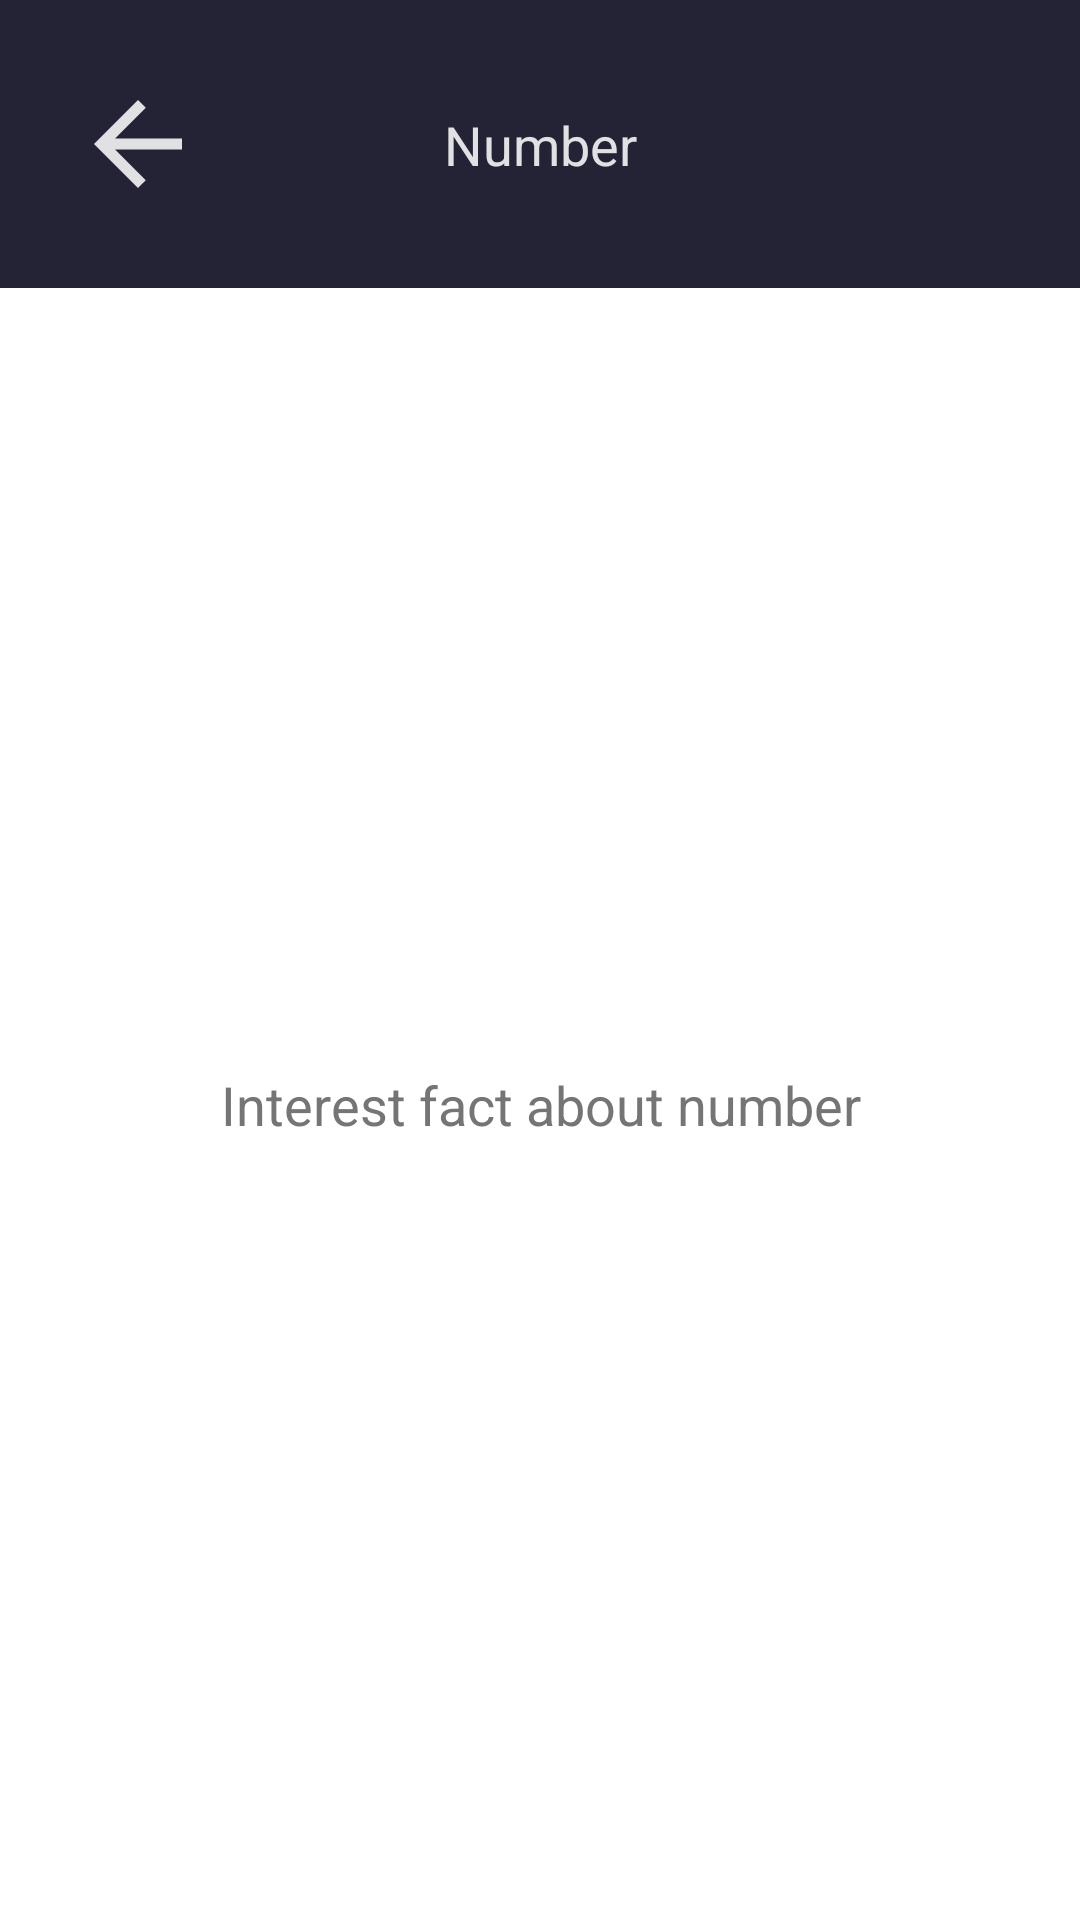

Screen size 1080 × 1920. Icon name, then its center in pixels as [x,y]:
back arrow: [138,144]
